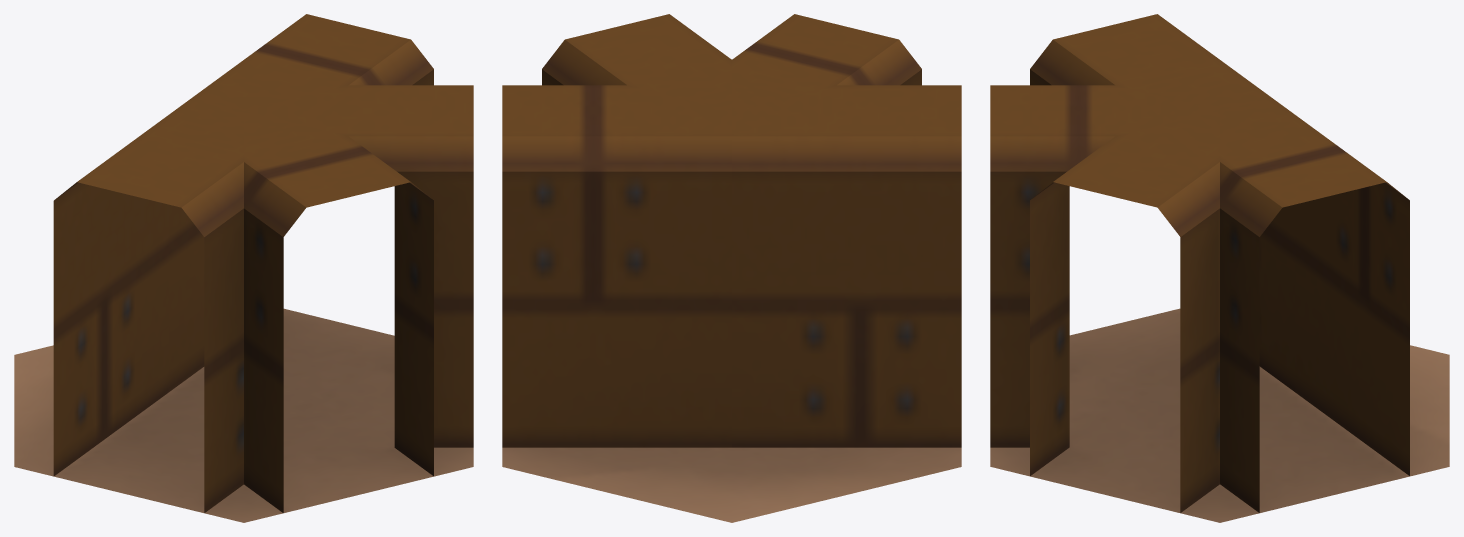
Rendered from Barriere_T.FBX.
3 views of the same model, side by side, from view 1: azimuth 30°, elevation 25°; view 2: azimuth 150°, elevation 25°; view 3: azimuth 270°, elevation 25° (orthographic).
Visible parts, largest first — view 1: Barriere_T; view 2: Barriere_T; view 3: Barriere_T.
Boxes of the visible parts, bbox=[...] form: Barriere_T: bbox=[14, 14, 473, 522]; Barriere_T: bbox=[502, 14, 961, 522]; Barriere_T: bbox=[990, 14, 1449, 522].
Bounding box in the file's own units: 1 × 0.6247 × 0.8661.
